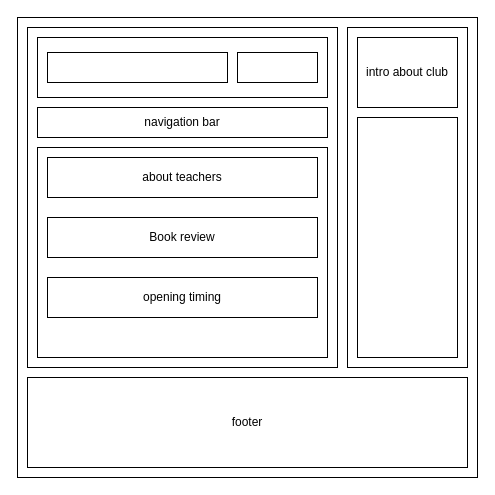
The diagram is 495 pixels wide and 495 high, and some of its shapes have lost their labels. Here are the shapes that lost their labels. From the top down, the centre of each, then its label:
At (137,67): "heading".
At (277,67): "image".
At (407,237): "bestseller books".
